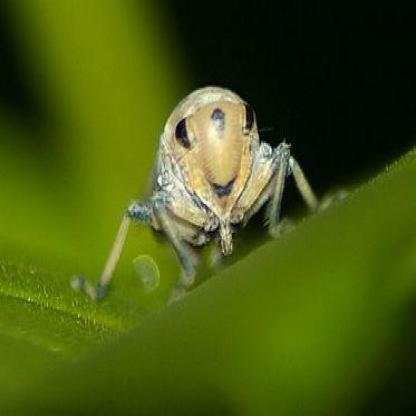green-leafhopper: (126, 82, 288, 275)
